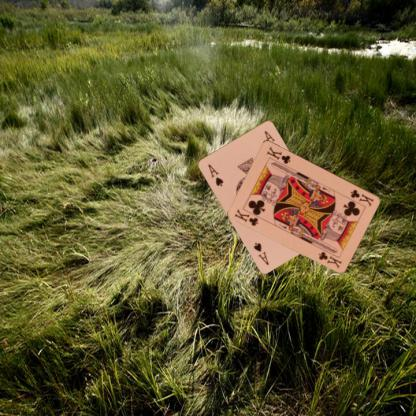As: (205, 161, 224, 188)
Kc: (348, 186, 375, 208), (232, 206, 260, 227)
